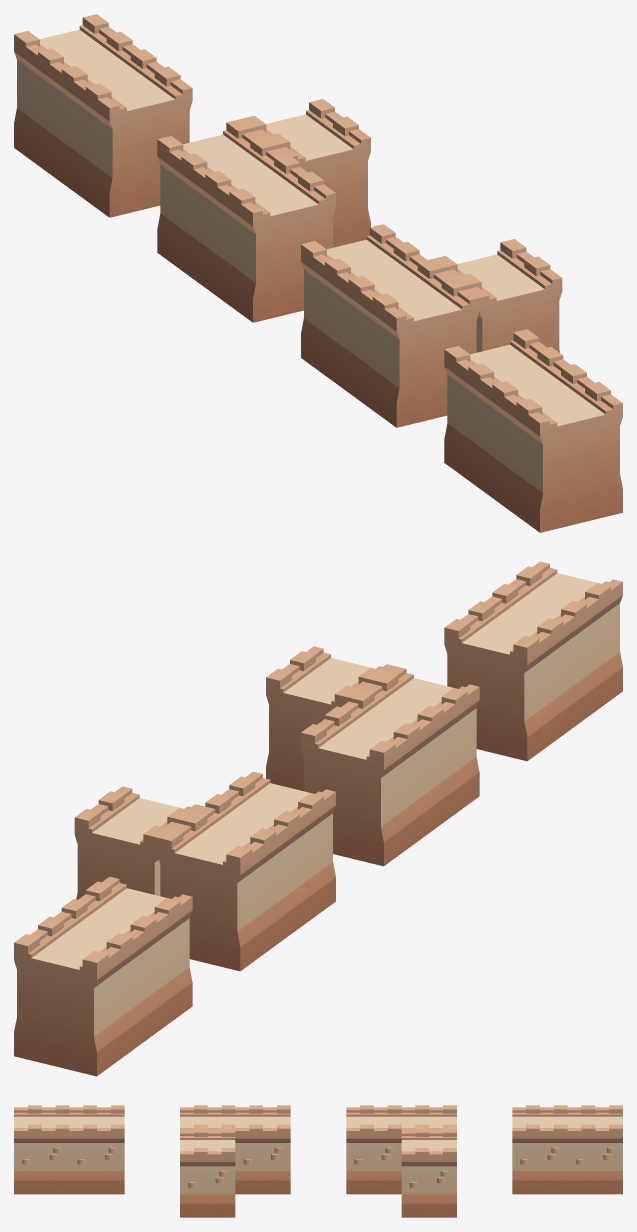
Rendered from paired-animation.glb.
The picture shows the model from 3 angles, top to bottom: view 1: azimuth 30°, elevation 25°; view 2: azimuth 150°, elevation 25°; view 3: azimuth 270°, elevation 25°; orthographic projection. The views are drawn at different scales.
Visible parts, largest first — view 1: Wall_L4, Wall_R3, Wall_L2, Wall_R1, Wall_R2, Wall_L3, Wall_L1, Wall_R4, Wall_Back_L, Wall_Back_R; view 2: Wall_R4, Wall_L3, Wall_R2, Wall_L1, Wall_L2, Wall_R3, Wall_R1, Wall_L4, Wall_Back_R, Wall_Back_L; view 3: Wall_R1, Wall_R3, Wall_L4, Wall_R4, Wall_L1, Wall_L3, Wall_Back_R, Wall_Back_L, Wall_L2, Wall_R2.
Part boxes in pixels (<box>): Wall_L4: <box>492,364,622,532</box>; Wall_R3: <box>61,49,192,217</box>; Wall_L2: <box>348,259,479,427</box>; Wall_R1: <box>205,154,335,322</box>; Wall_R2: <box>157,119,283,287</box>; Wall_L3: <box>444,329,570,497</box>; Wall_L1: <box>301,224,426,392</box>; Wall_R4: <box>14,14,139,182</box>; Wall_Back_L: <box>432,239,562,352</box>; Wall_Back_R: <box>240,99,370,247</box>; Wall_R4: <box>14,911,144,1076</box>; Wall_L3: <box>444,596,575,761</box>; Wall_R2: <box>157,806,288,971</box>; Wall_L1: <box>301,701,431,866</box>; Wall_L2: <box>348,666,479,830</box>; Wall_R3: <box>61,876,192,1040</box>; Wall_R1: <box>205,771,335,935</box>; Wall_L4: <box>492,561,622,725</box>; Wall_Back_R: <box>74,786,204,899</box>; Wall_Back_L: <box>266,646,396,791</box>; Wall_R1: <box>346,1105,401,1194</box>; Wall_R3: <box>512,1105,567,1194</box>; Wall_L4: <box>14,1105,69,1194</box>; Wall_R4: <box>567,1105,622,1194</box>; Wall_L1: <box>235,1105,290,1194</box>; Wall_L3: <box>69,1105,124,1194</box>; Wall_Back_R: <box>401,1128,456,1217</box>; Wall_Back_L: <box>180,1128,235,1217</box>; Wall_L2: <box>180,1105,235,1130</box>; Wall_R2: <box>401,1105,456,1130</box>.
Size of the model in its own units: 2 by 1.31 by 11.
10 materials, 10 textured.
